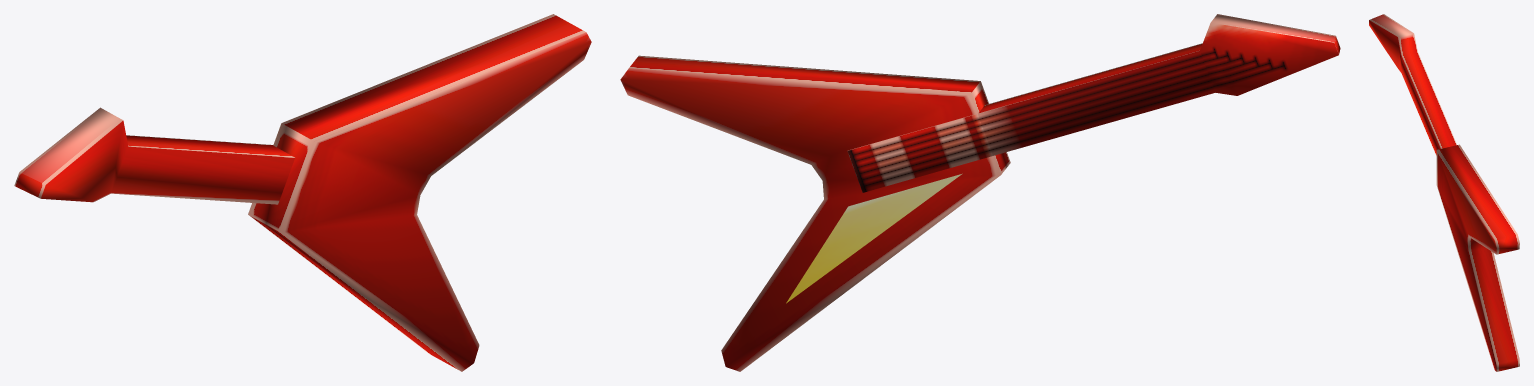
The model's file is unlocker_spike.fbx.
The picture shows the model from 3 angles, left to right: view 1: azimuth 30°, elevation 25°; view 2: azimuth 150°, elevation 25°; view 3: azimuth 270°, elevation 25°; orthographic projection. The views are drawn at different scales.
Parts seen in each view (by area): view 1: unlocker_spike; view 2: unlocker_spike; view 3: unlocker_spike.
Boxes of the visible parts, <box> form: unlocker_spike: <box>14,14,591,371</box>; unlocker_spike: <box>620,14,1340,371</box>; unlocker_spike: <box>1369,14,1519,371</box>.
Size of the model in its own units: 11.02 by 6.57 by 4.
